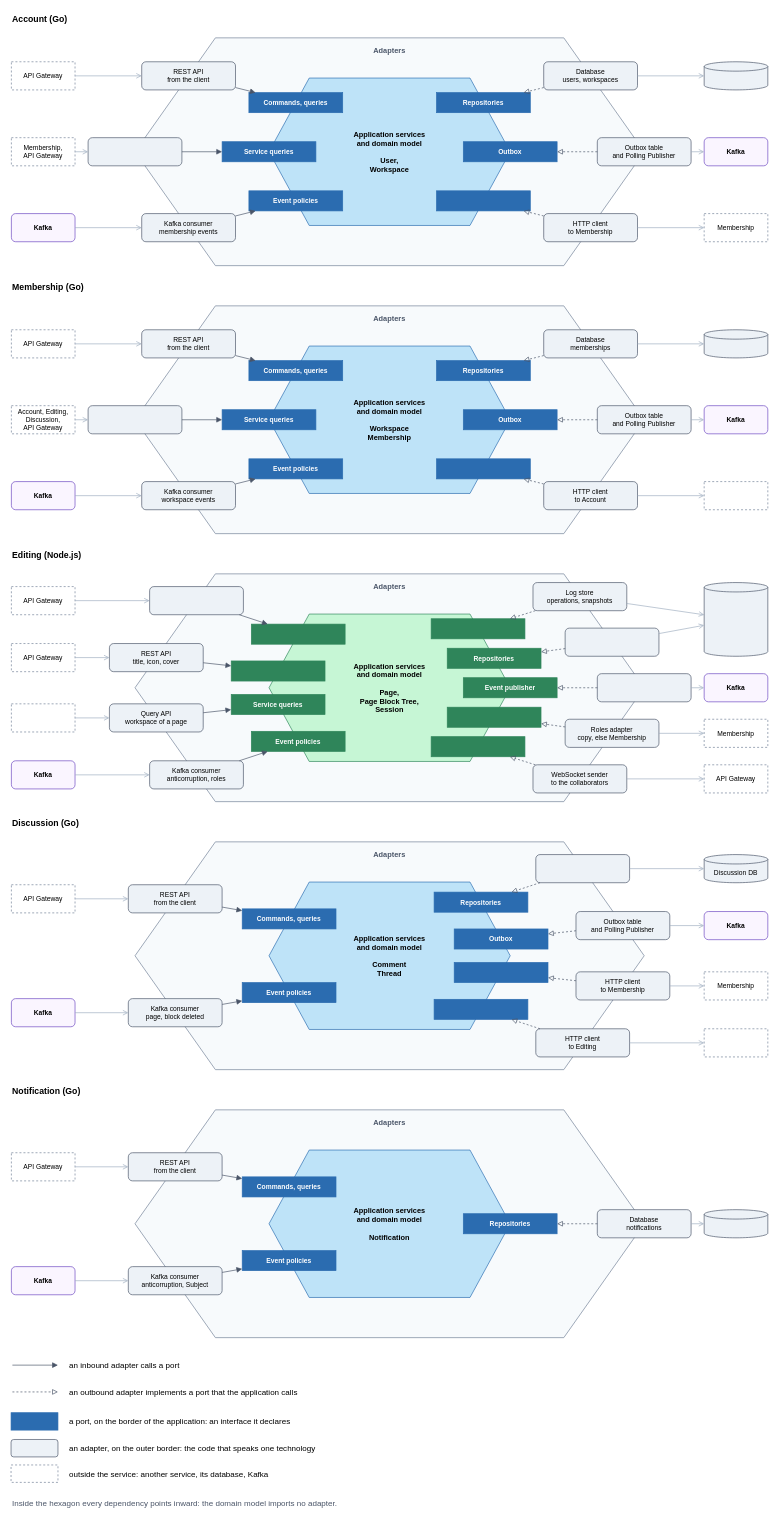
This 779x1522 diagram has some shape labels left out. The centre of each missing label's shape, as x and y in pixels:
"AccessLookupService" goes at [494,717].
"Account" goes at [736,495].
"Account DB" goes at [736,75].
"Collaborators" goes at [477,746].
"Database comment threads" goes at [582,868].
"Database pages, copy of roles" goes at [611,641].
"Discussion" goes at [43,717].
"Editing" goes at [736,1042].
"Editing DB pages, roles, session log, snapshots" goes at [736,619].
"Kafka producer direct publication" goes at [644,687].
"Membership DB" goes at [736,343].
"Membership roles" goes at [483,200].
"MembershipLookupService" goes at [501,972].
"Notification DB" goes at [736,1223].
"Page commands" goes at [278,670].
"PageLookupService" goes at [480,1009].
"Query API for Membership, gateway" goes at [134,151].
"Query API roles and members" goes at [134,419].
"Session commands" goes at [298,633].
"Session log" goes at [477,628].
"UserLookupService" goes at [483,468].
"WebSocket from the client" goes at [196,600].
